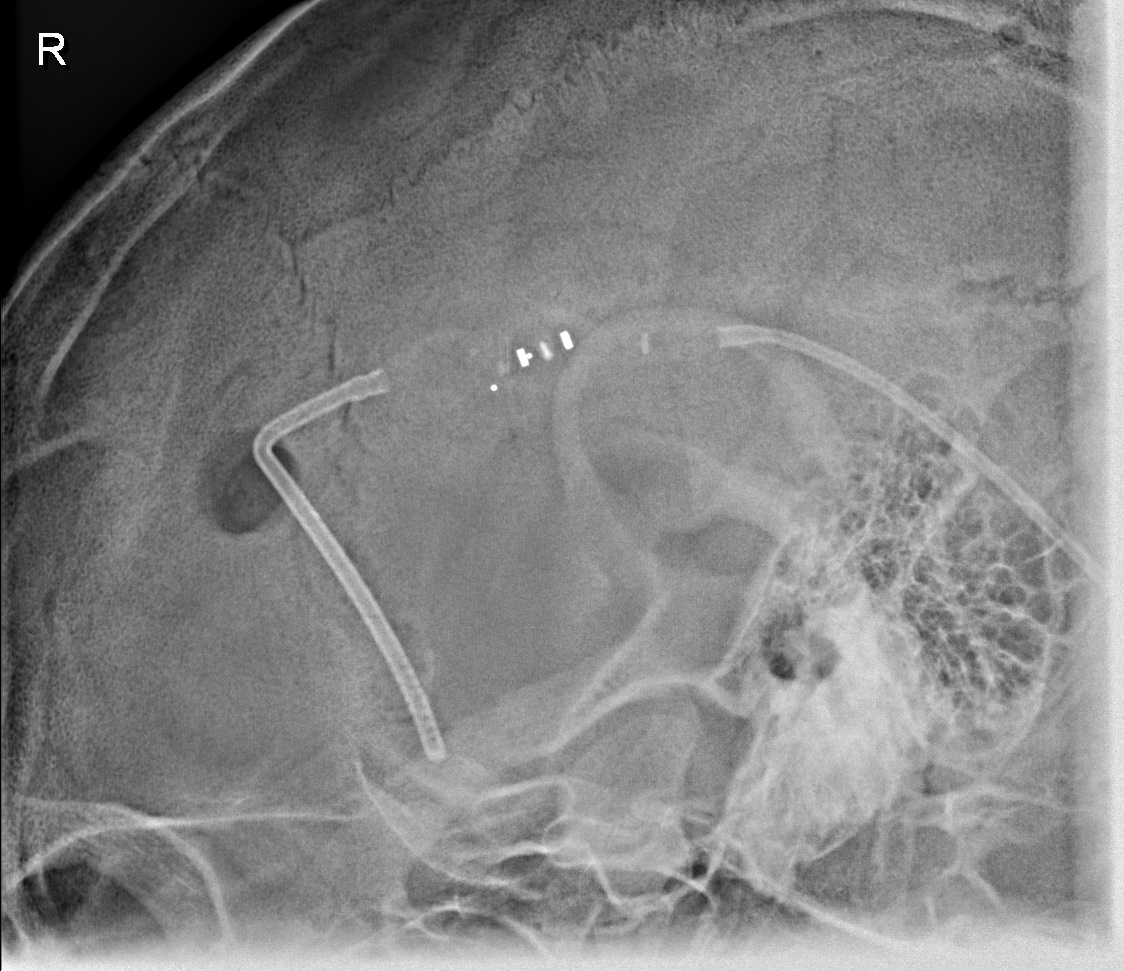Codman Certas: (462, 296, 607, 409)
